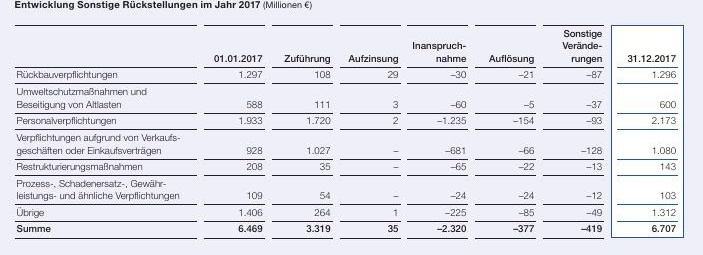table: (0, 0, 703, 255)
